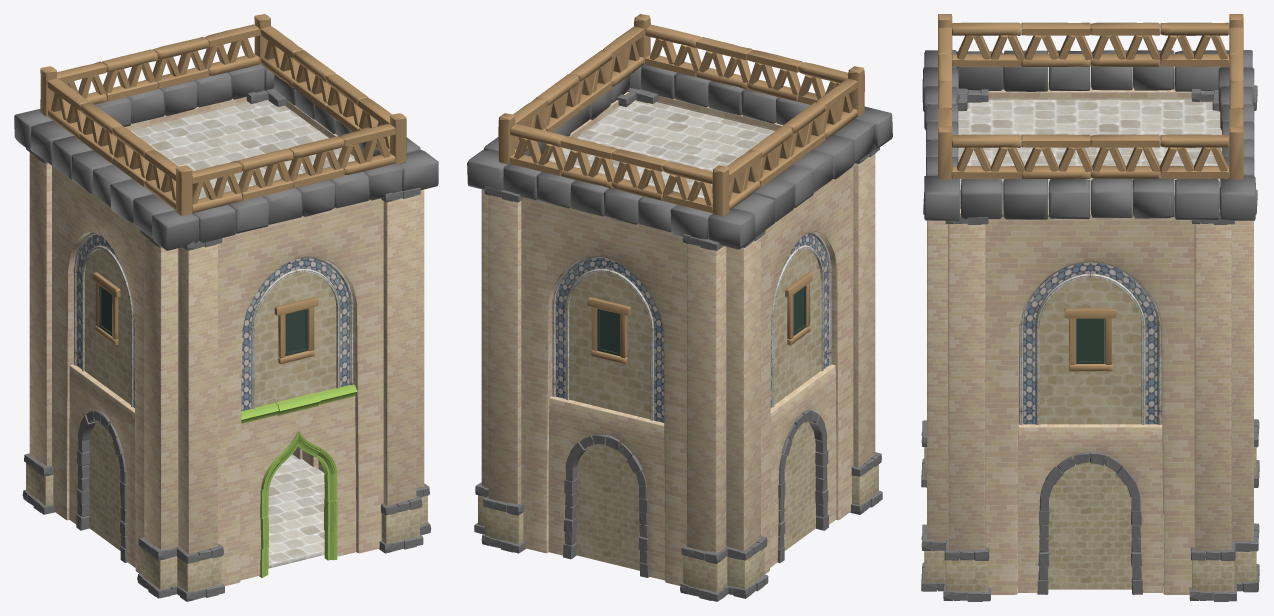
The model's file is SM_admistrative_building_02.fbx.
3 views of the same model, side by side, from view 1: azimuth 30°, elevation 25°; view 2: azimuth 150°, elevation 25°; view 3: azimuth 270°, elevation 25° (orthographic). The views are drawn at different scales.
Parts seen in each view (by area): view 1: Plane273; view 2: Plane273; view 3: Plane273.
Part boxes in pixels (box(x1,y1,x2,y2)): Plane273: box(14, 14, 438, 601); Plane273: box(467, 14, 892, 601); Plane273: box(921, 14, 1259, 601).
Size of the model in its own units: 278 by 411 by 276.
